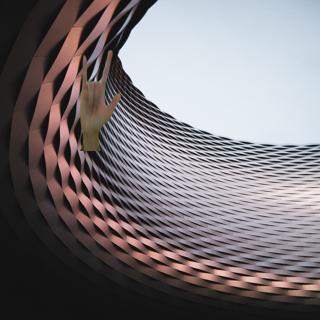ILY: (76, 49, 123, 136)
